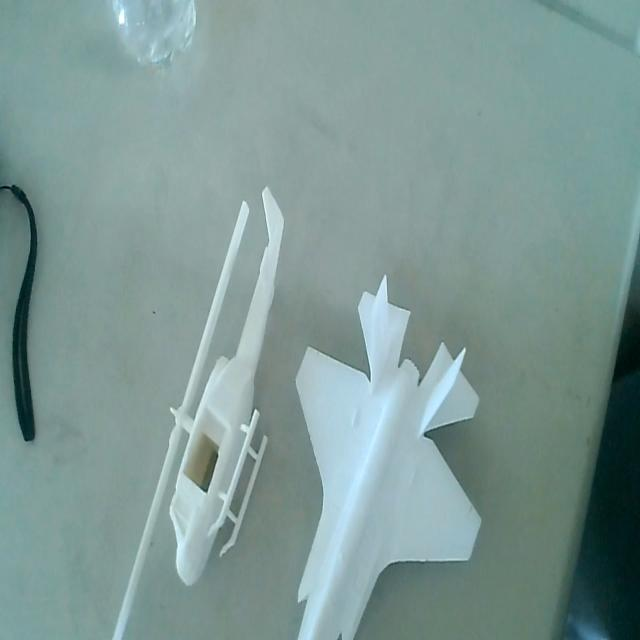Helicopter: (119, 181, 284, 640)
Jet: (290, 275, 487, 640)
